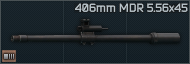MDR 5.56x45 406mm barrel: (0, 0, 190, 64)
